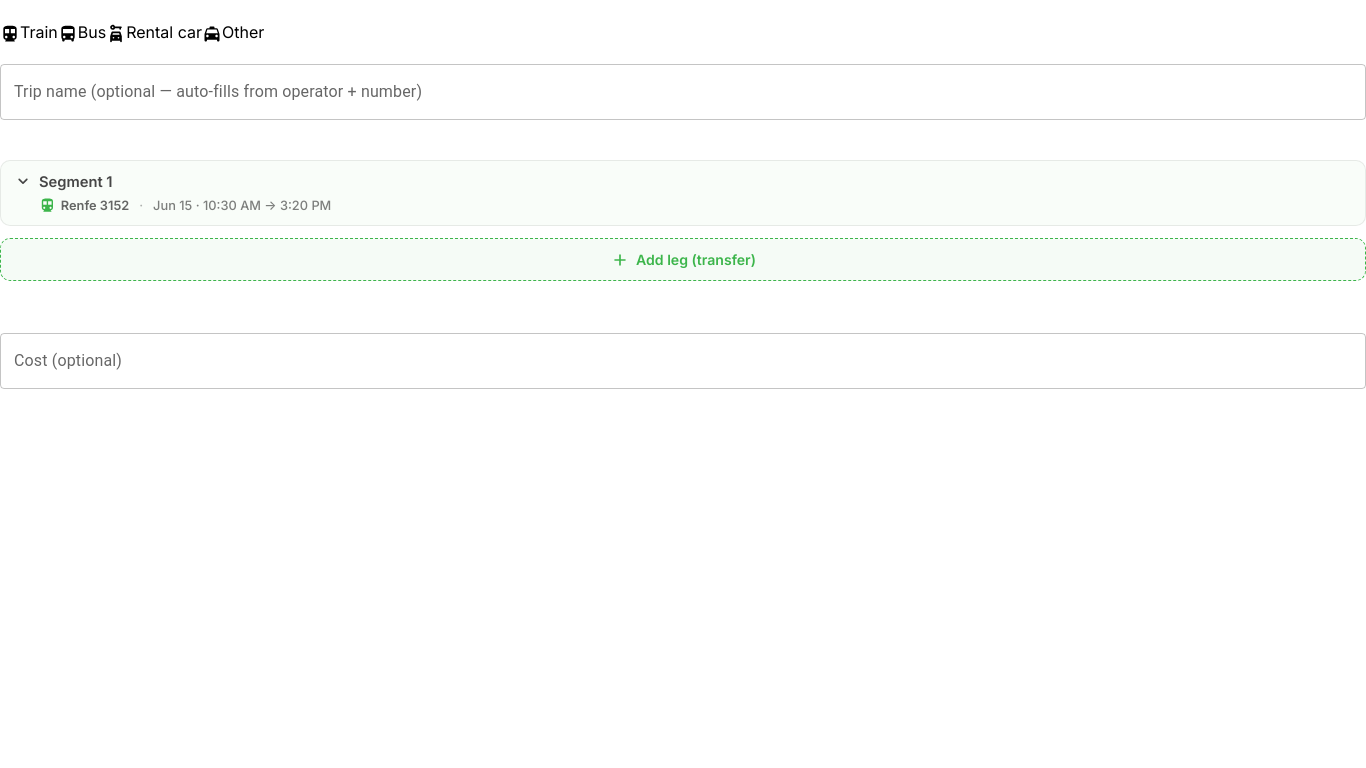
Test: TransitForm › custom mode (train): an expanded segment shows the not-found hint
The image size is (1366, 768).
What coordinates should you click on to do the following:
click the button "Segment 1 Renfe 3152 Jun 15 · 10:30 AM → 3:20 PM"
I would click on:
 (76, 182)
Its box is [13,171,1353,215].
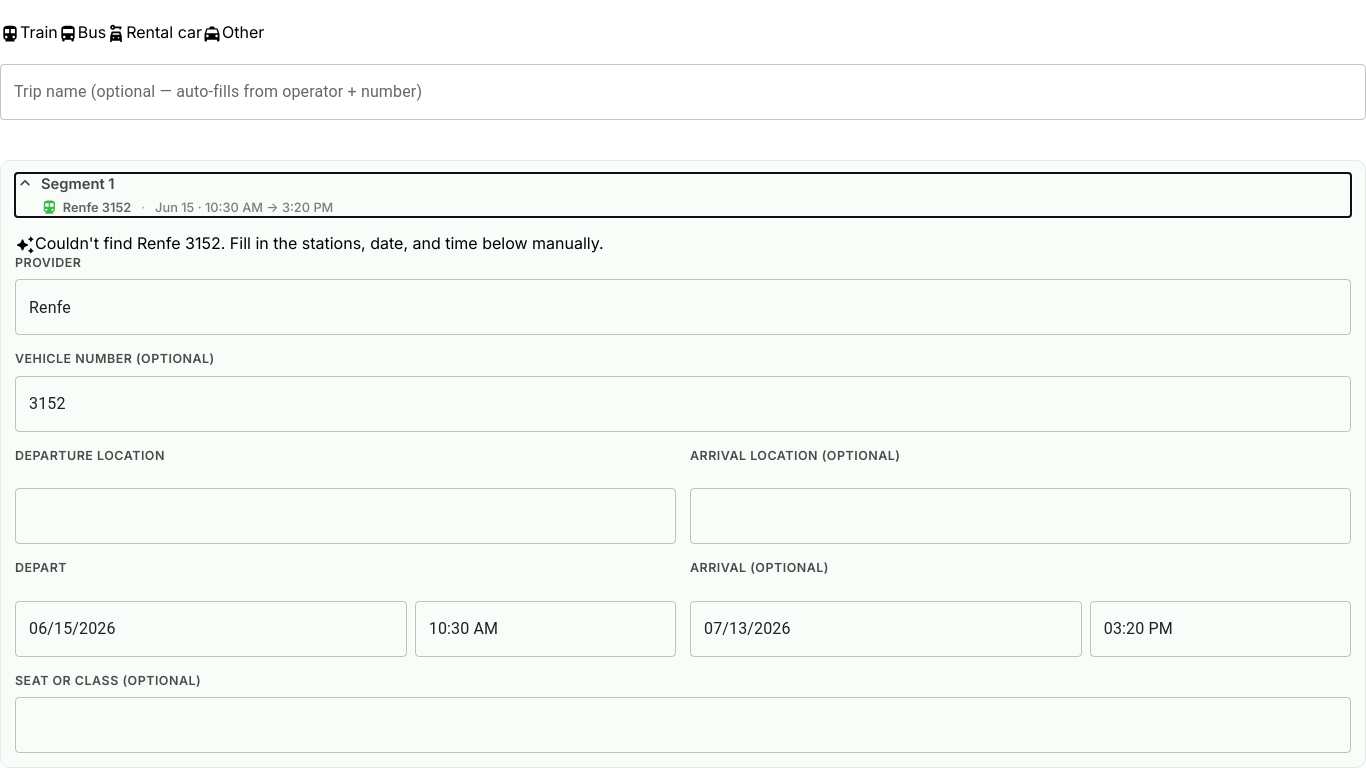
Now the text "find Renfe 3152. Fill in the stations, date, and time below manually" is shown, box [35,233,604,253]
